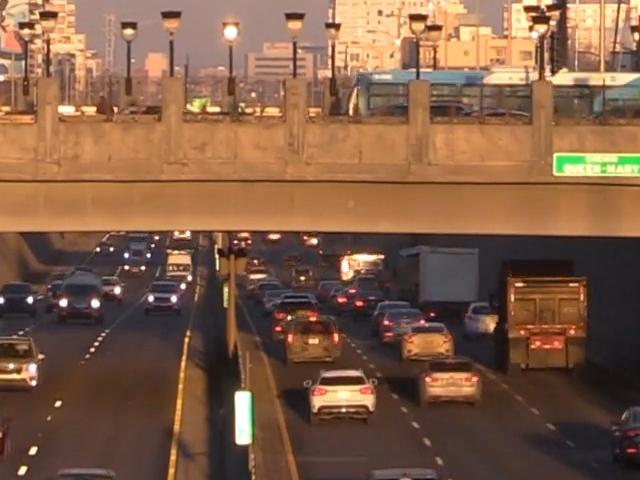car: (307, 366, 381, 431), (416, 357, 485, 411), (283, 314, 344, 365), (57, 274, 110, 330), (398, 320, 462, 362), (0, 331, 42, 390), (607, 400, 640, 471), (272, 299, 317, 344), (384, 309, 423, 351), (466, 300, 504, 339), (149, 282, 184, 317), (0, 283, 34, 318), (356, 293, 388, 323), (98, 276, 127, 301)
truck: (493, 257, 591, 378), (387, 246, 478, 327)
